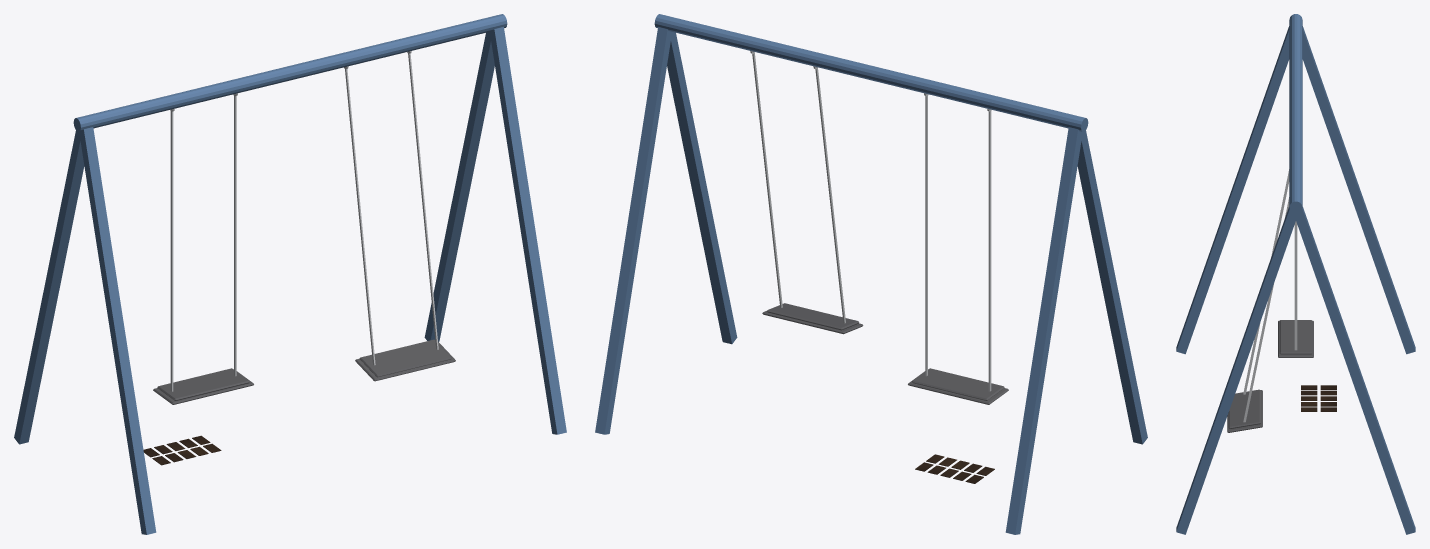
File: balanco.glb
3 renders of one model, left to right at view 1: azimuth 30°, elevation 25°; view 2: azimuth 150°, elevation 25°; view 3: azimuth 270°, elevation 25°, orthographic. The views are drawn at different scales.
Parts seen in each view (by area): view 1: balanco_tinta_azul, balanco_borracha, balanco_aco, balanco_terra; view 2: balanco_tinta_azul, balanco_aco, balanco_borracha, balanco_terra; view 3: balanco_tinta_azul, balanco_borracha, balanco_aco, balanco_terra.
Boxes of the visible parts, <box> form: balanco_tinta_azul: <box>14,14,566,534</box>; balanco_borracha: <box>153,339,455,404</box>; balanco_aco: <box>170,51,438,391</box>; balanco_terra: <box>143,435,221,465</box>; balanco_tinta_azul: <box>595,14,1147,534</box>; balanco_aco: <box>750,51,991,391</box>; balanco_borracha: <box>762,303,1008,404</box>; balanco_terra: <box>915,454,994,483</box>; balanco_tinta_azul: <box>1176,14,1415,534</box>; balanco_borracha: <box>1227,320,1313,432</box>; balanco_aco: <box>1243,169,1297,422</box>; balanco_terra: <box>1301,385,1336,411</box>.
Bounding box in the file's own units: 2.7 × 2.25 × 1.46.
4 materials, 1 textured.
